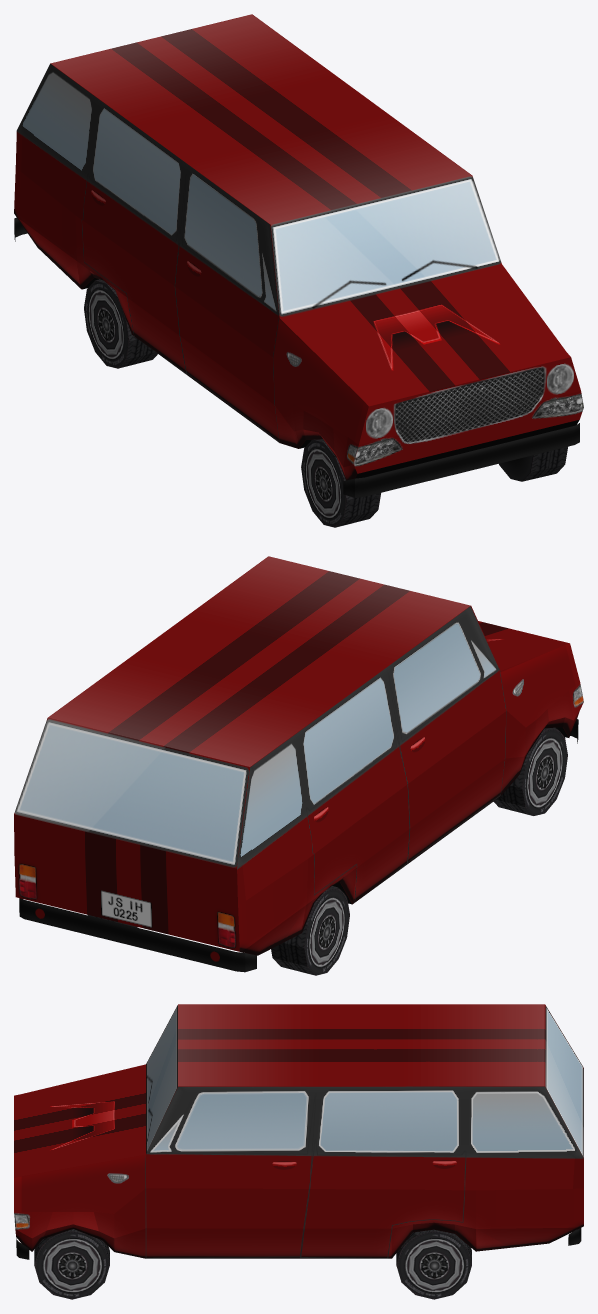
The model's file is jeep.fbx.
The picture shows the model from 3 angles, top to bottom: view 1: azimuth 30°, elevation 25°; view 2: azimuth 150°, elevation 25°; view 3: azimuth 270°, elevation 25°; orthographic projection. The views are drawn at different scales.
Visible parts, largest first — view 1: polySurface62, polySurface55, polySurface57, polySurface56; view 2: polySurface62, polySurface57, polySurface55; view 3: polySurface62, polySurface58, polySurface56.
Boxes of the visible parts, box(x1,y1,x2,y2) form: polySurface62: box(14, 14, 583, 497); polySurface55: box(301, 439, 380, 527); polySurface57: box(84, 279, 157, 368); polySurface56: box(499, 446, 567, 481); polySurface62: box(14, 556, 583, 972); polySurface57: box(271, 886, 349, 975); polySurface55: box(493, 727, 567, 815); polySurface62: box(14, 1004, 583, 1259); polySurface58: box(396, 1229, 471, 1299); polySurface56: box(34, 1229, 109, 1299).
Size of the model in its own units: 7.56 by 7.56 by 18.65.
Materials: 1 (1 with a texture image).
